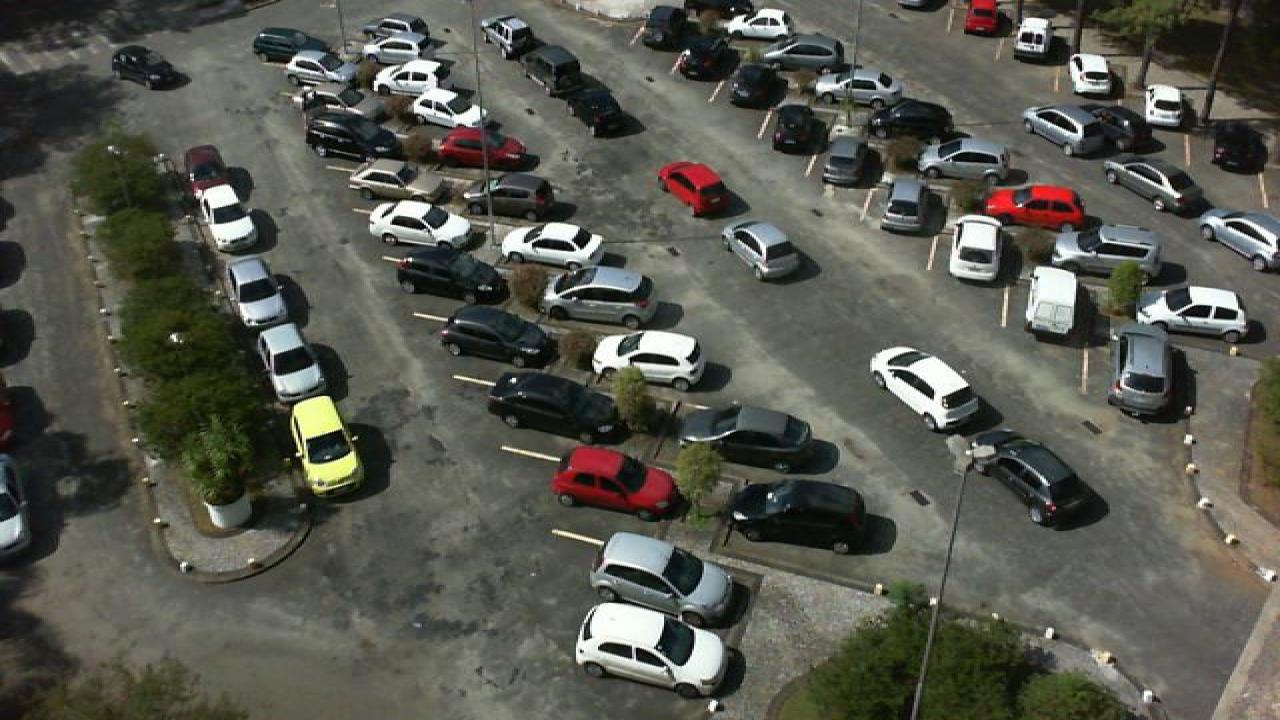Car: (574, 602, 744, 701), (584, 532, 744, 629), (978, 431, 1104, 526), (728, 480, 880, 554), (484, 371, 626, 444), (674, 404, 826, 472), (868, 345, 984, 431), (550, 446, 680, 522), (286, 394, 368, 498), (436, 304, 556, 369), (592, 330, 710, 392), (542, 266, 658, 328), (392, 246, 508, 305), (1134, 286, 1254, 342), (1108, 323, 1178, 416), (1050, 223, 1168, 277), (364, 199, 478, 254), (1102, 159, 1212, 215), (254, 320, 328, 402), (498, 222, 610, 276), (984, 182, 1094, 233), (1020, 103, 1120, 156), (1196, 208, 1280, 270), (226, 256, 292, 328), (198, 182, 262, 254), (432, 127, 534, 170), (464, 173, 558, 218), (946, 214, 1008, 282), (918, 137, 1012, 181), (866, 96, 958, 140), (350, 161, 448, 202), (310, 115, 394, 162), (410, 86, 492, 132), (812, 69, 906, 109), (756, 34, 846, 72), (368, 60, 462, 96), (878, 174, 936, 230), (108, 44, 178, 89), (1206, 120, 1266, 172), (522, 44, 586, 92), (822, 136, 882, 187), (562, 73, 622, 123), (282, 49, 356, 88), (300, 94, 374, 130), (772, 103, 826, 152), (250, 26, 320, 63), (358, 34, 432, 68), (676, 32, 726, 80), (182, 144, 230, 192), (728, 62, 778, 108), (1066, 53, 1116, 99), (360, 12, 434, 43), (726, 8, 796, 40), (1142, 82, 1190, 127), (1012, 16, 1060, 61), (482, 15, 536, 55), (642, 4, 686, 52), (962, 0, 1004, 35)
